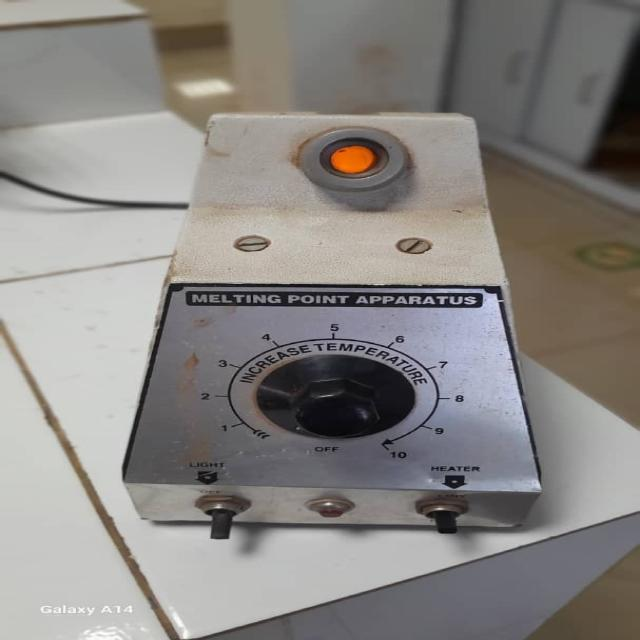Melting Point Apparatus: (106, 107, 568, 549)
